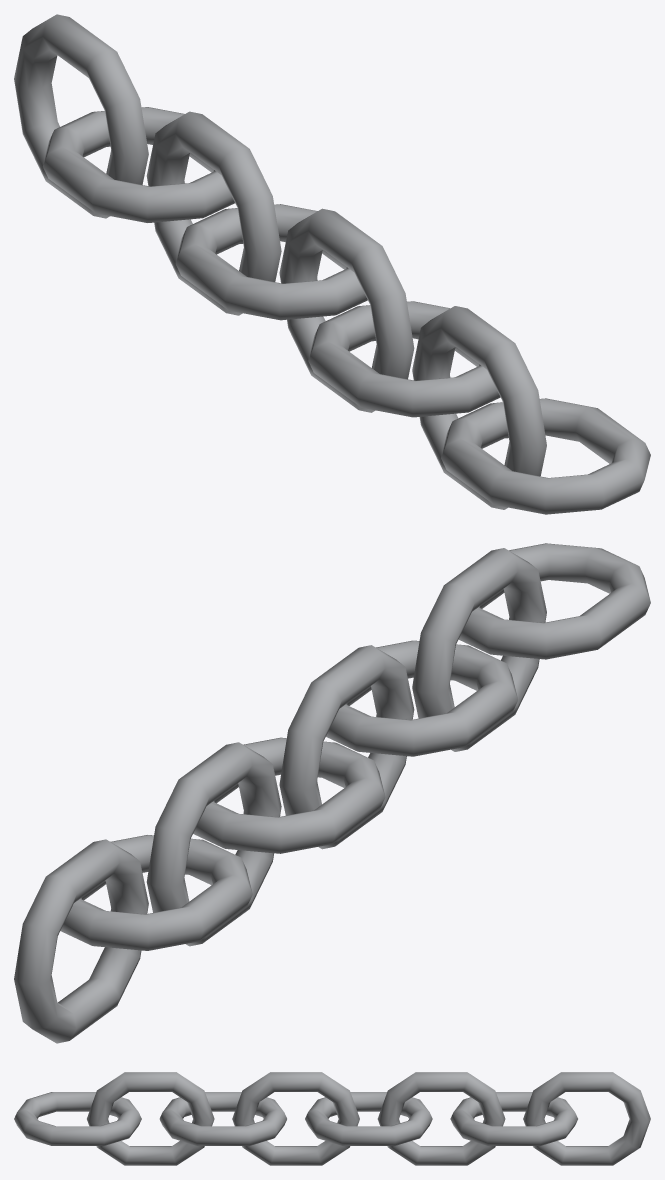
File: Chain.fbx
3 views of the same model, one above another, from view 1: azimuth 30°, elevation 25°; view 2: azimuth 150°, elevation 25°; view 3: azimuth 270°, elevation 25° (orthographic). The views are drawn at different scales.
Parts seen in each view (by area): view 1: Chain1, Chain8, Chain4, Chain6, Chain2, Chain5, Chain3, Chain7; view 2: Chain8, Chain1, Chain6, Chain4, Chain2, Chain3, Chain5, Chain7; view 3: Chain8, Chain4, Chain6, Chain2, Chain1, Chain3, Chain7, Chain5.
Part boxes in pixels (x1,y1,x2,y2): Chain1: (441, 398, 650, 514); Chain8: (14, 14, 148, 218); Chain4: (279, 208, 414, 412); Chain6: (146, 111, 281, 315); Chain2: (412, 306, 546, 509); Chain5: (175, 204, 367, 320); Chain3: (308, 301, 500, 417); Chain7: (43, 107, 234, 222); Chain8: (14, 839, 148, 1043); Chain1: (458, 543, 650, 659); Chain6: (146, 742, 281, 946); Chain4: (279, 645, 414, 849); Chain2: (412, 548, 546, 751); Chain3: (326, 640, 517, 756); Chain5: (193, 737, 385, 853); Chain7: (60, 835, 252, 950); Chain8: (523, 1072, 650, 1165); Chain4: (232, 1072, 359, 1165); Chain6: (377, 1072, 505, 1165); Chain2: (87, 1072, 214, 1165); Chain1: (14, 1092, 141, 1145); Chain3: (159, 1092, 286, 1145); Chain7: (450, 1092, 577, 1145); Chain5: (305, 1092, 432, 1145).
Bounding box in the file's own units: 2.38 × 2.38 × 14.89.
Materials: 1 (1 with a texture image).
